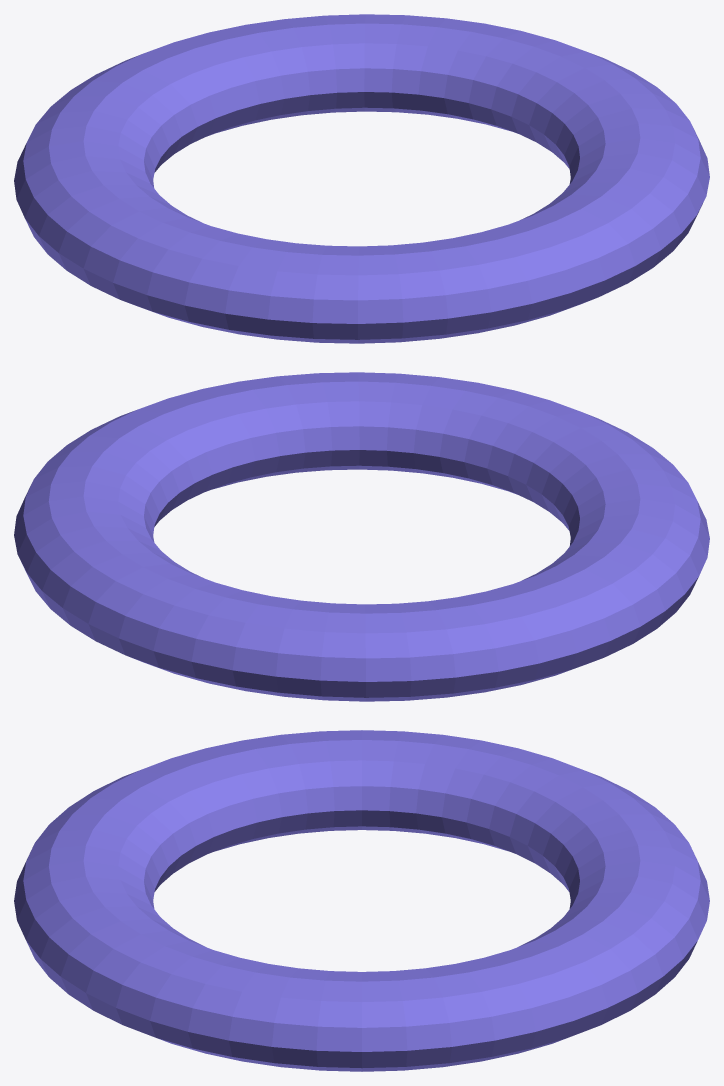
The picture shows the model from 3 angles, top to bottom: view 1: azimuth 30°, elevation 25°; view 2: azimuth 150°, elevation 25°; view 3: azimuth 270°, elevation 25°; orthographic projection. The views are drawn at different scales.
Parts seen in each view (by area): view 1: Torus; view 2: Torus; view 3: Torus.
Part boxes in pixels (box(x1,y1,x2,y2)): Torus: box(14, 14, 709, 343); Torus: box(14, 372, 709, 701); Torus: box(14, 730, 709, 1071).
Bounding box in the file's own units: 0.8058 × 0.1 × 0.7842.
